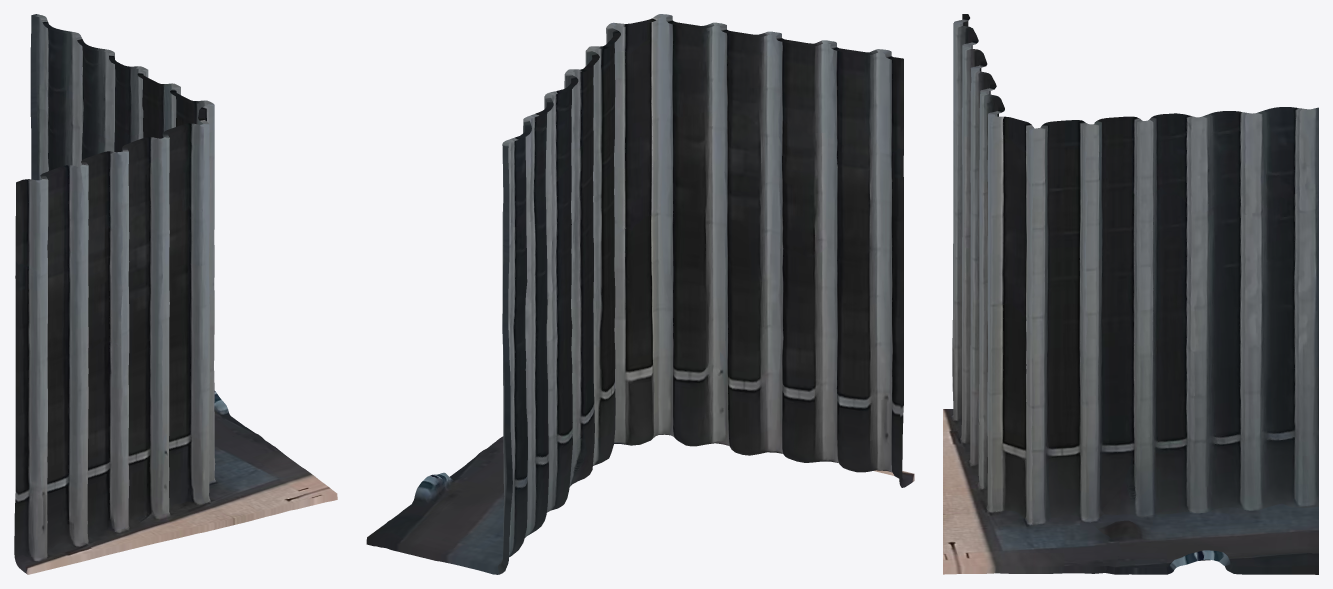
File: z20-167780-405228-h0-yup-uvflip-v3-world.glb
3 views of the same model, side by side, from view 1: azimuth 30°, elevation 25°; view 2: azimuth 150°, elevation 25°; view 3: azimuth 270°, elevation 25° (orthographic). The views are drawn at different scales.
Bounding box in the file's own units: 30.2 × 35.84 × 30.32.
Materials: 1 (1 with a texture image).
